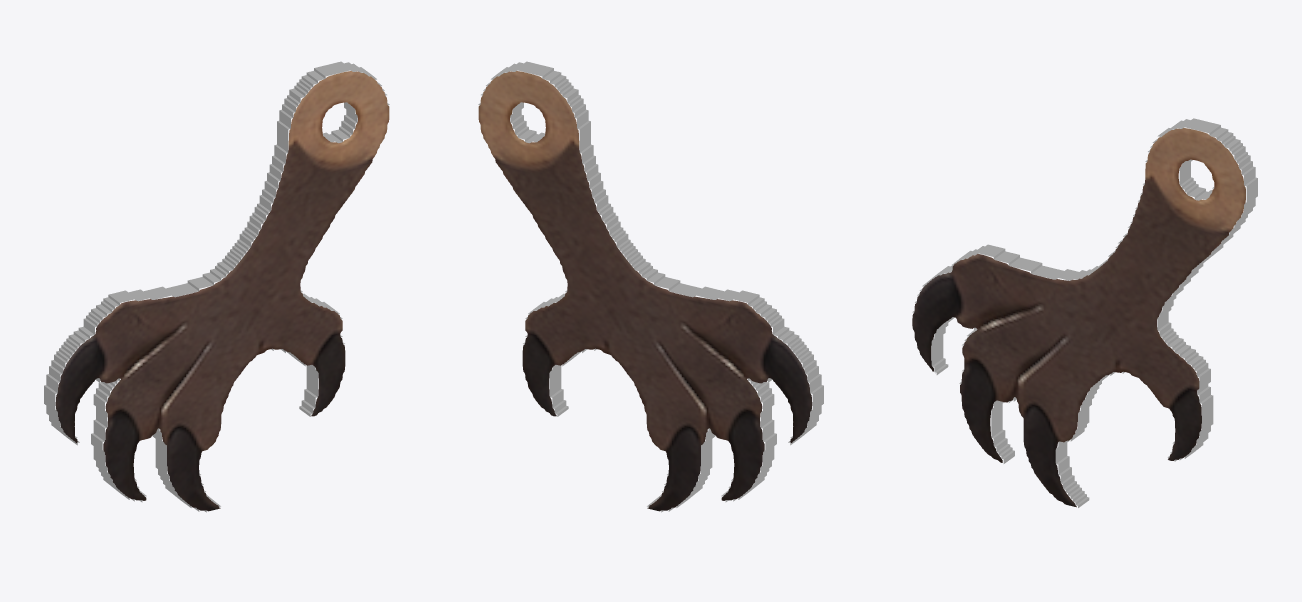
Rendered from ClawLeft.glb.
3 renders of one model, left to right at view 1: azimuth 30°, elevation 25°; view 2: azimuth 150°, elevation 25°; view 3: azimuth 330°, elevation 25°, orthographic.
Visible parts, largest first — view 1: PaperVolume; view 2: PaperVolume; view 3: PaperVolume.
Part boxes in pixels (bbox=[...]): PaperVolume: bbox=[44, 61, 389, 512]; PaperVolume: bbox=[478, 61, 823, 512]; PaperVolume: bbox=[912, 118, 1257, 507].
Size of the model in its own units: 1.59 by 1.81 by 0.08.
3 materials, 2 textured.
